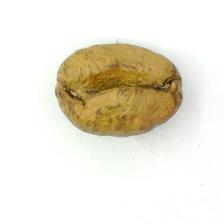NG: (56, 42, 179, 129)
